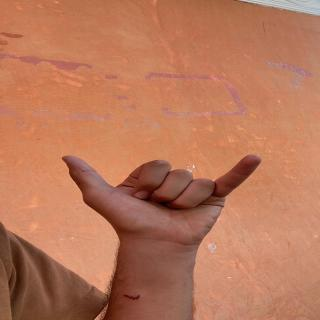YA: (58, 145, 261, 250)
